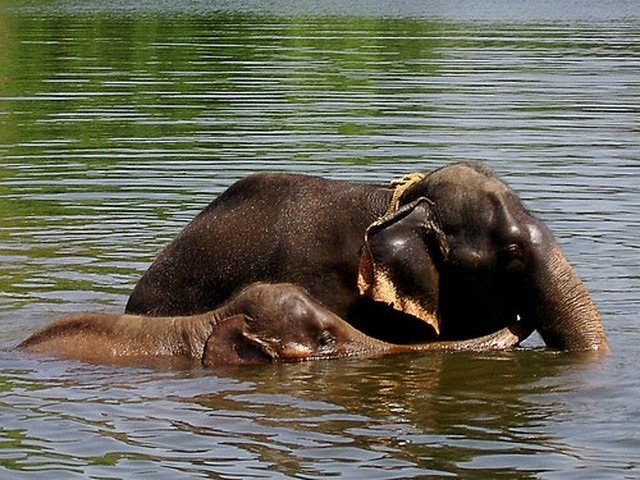Elephant: (21, 161, 614, 359)
